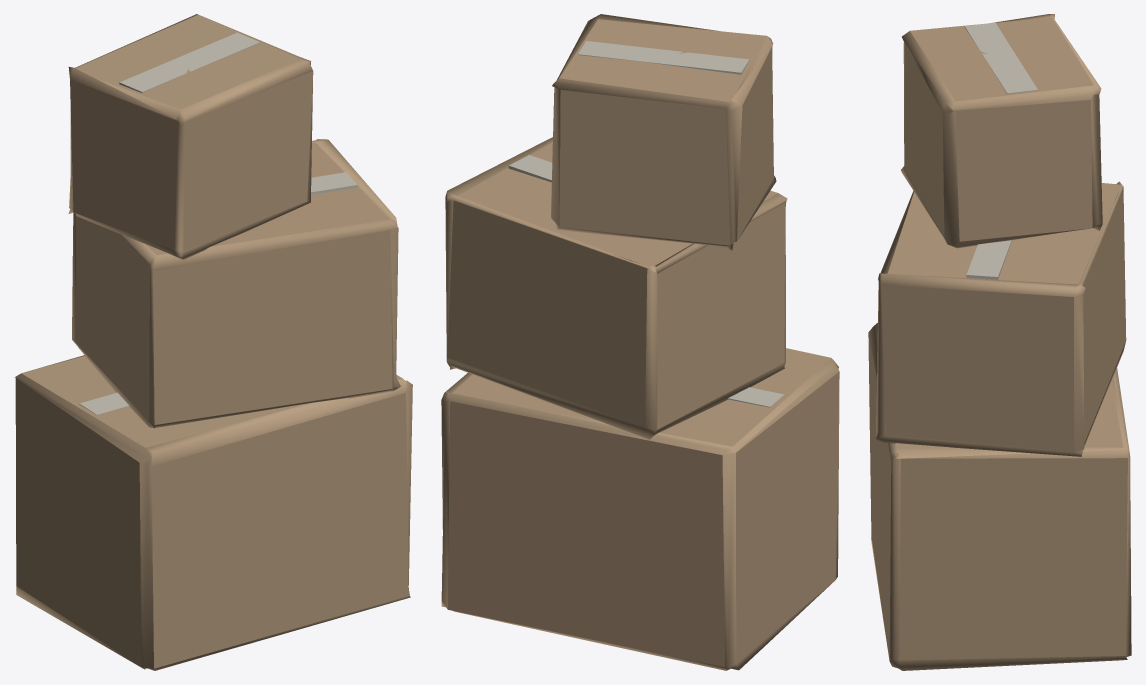
The model's file is cardboard_boxes.glb.
3 views of the same model, side by side, from view 1: azimuth 30°, elevation 25°; view 2: azimuth 150°, elevation 25°; view 3: azimuth 270°, elevation 25° (orthographic). The views are drawn at different scales.
Visible parts, largest first — view 1: cardboard_boxes; view 2: cardboard_boxes; view 3: cardboard_boxes.
Boxes of the visible parts, x1=… form: cardboard_boxes: x1=14, y1=14, x2=412, y2=670; cardboard_boxes: x1=441, y1=14, x2=839, y2=670; cardboard_boxes: x1=868, y1=14, x2=1131, y2=670.
Bounding box in the file's own units: 0.6491 × 1.11 × 0.495.
